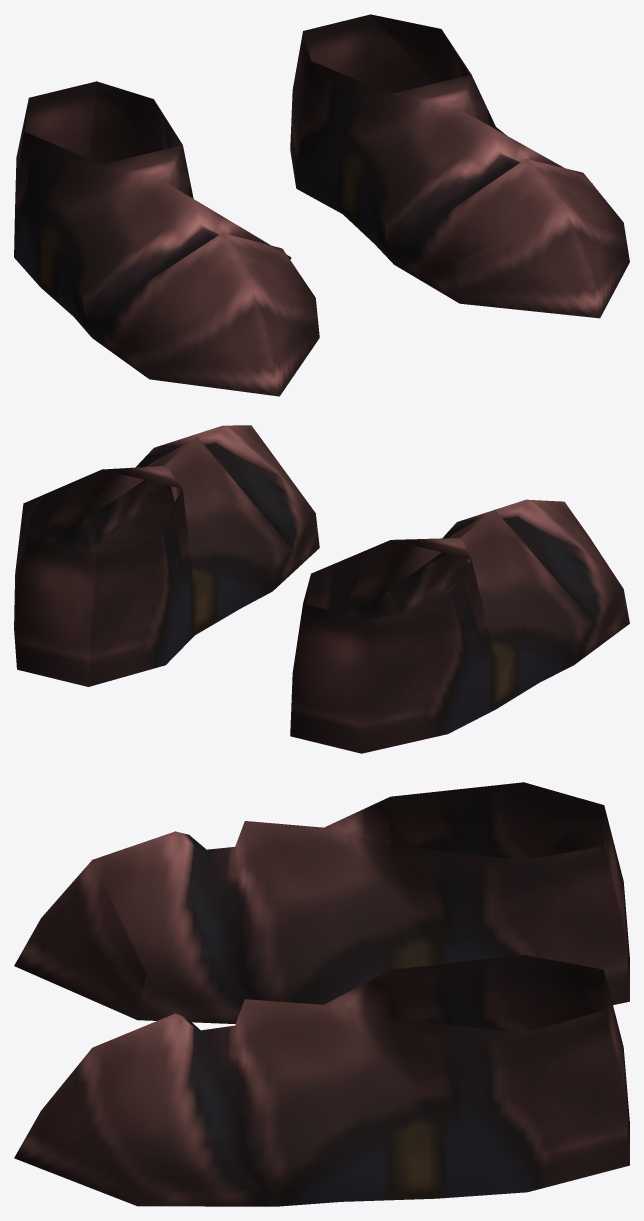
File: hum_varkolyn_01_5ee1ae6a.glb
3 renders of one model, top to bottom at view 1: azimuth 30°, elevation 25°; view 2: azimuth 150°, elevation 25°; view 3: azimuth 270°, elevation 25°, orthographic. The views are drawn at different scales.
Bounding box in the file's own units: 0.6284 × 0.1497 × 0.5405.
1 material, 1 textured.
